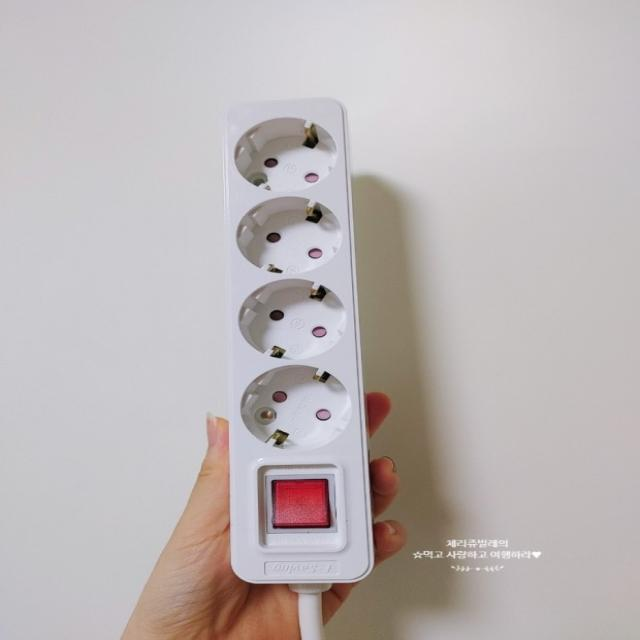typeb: (136, 47, 464, 610)
